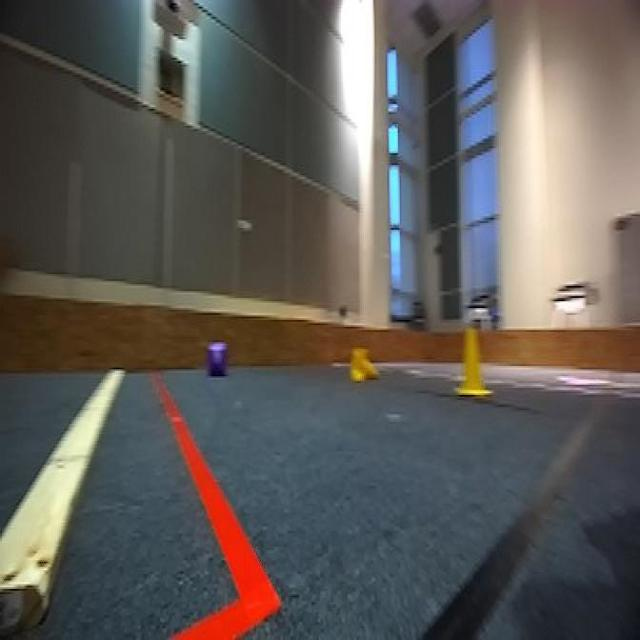frc_cone: (454, 318, 494, 400), (349, 346, 381, 383)
frc_cube: (208, 344, 228, 376)
